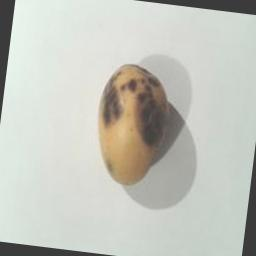Mango Rotten: (80, 52, 184, 190)
